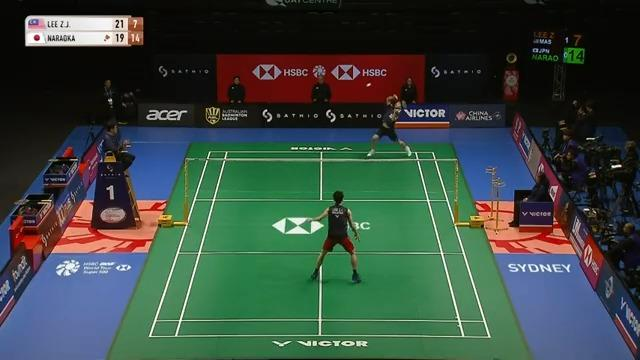Shuttlecock: (364, 80, 374, 90)
